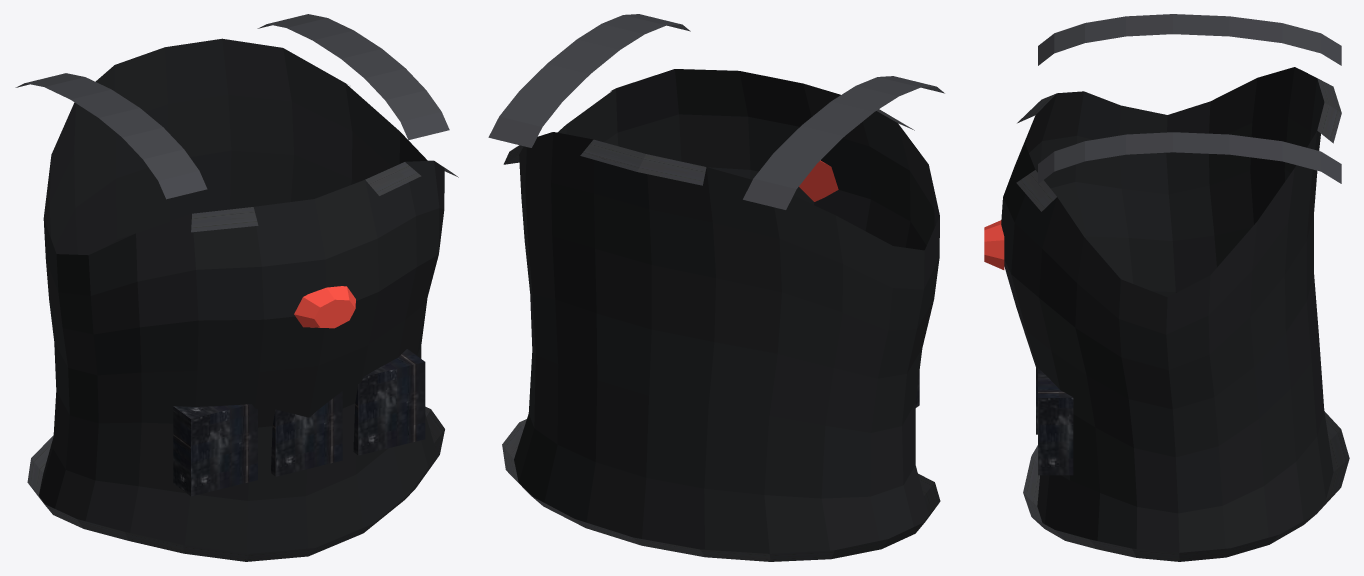
File: eq_present_3_chest.glb
3 views of the same model, side by side, from view 1: azimuth 30°, elevation 25°; view 2: azimuth 150°, elevation 25°; view 3: azimuth 270°, elevation 25° (orthographic). The views are drawn at different scales.
Visible parts, largest first — view 1: eq_present_3_chest; view 2: eq_present_3_chest; view 3: eq_present_3_chest.
Part boxes in pixels (bbox=[...]): eq_present_3_chest: bbox=[15, 14, 458, 561]; eq_present_3_chest: bbox=[488, 14, 944, 561]; eq_present_3_chest: bbox=[984, 14, 1349, 561].
Size of the model in its own units: 0.4602 by 0.4658 by 0.3644.
Materials: 5 (5 with a texture image).
